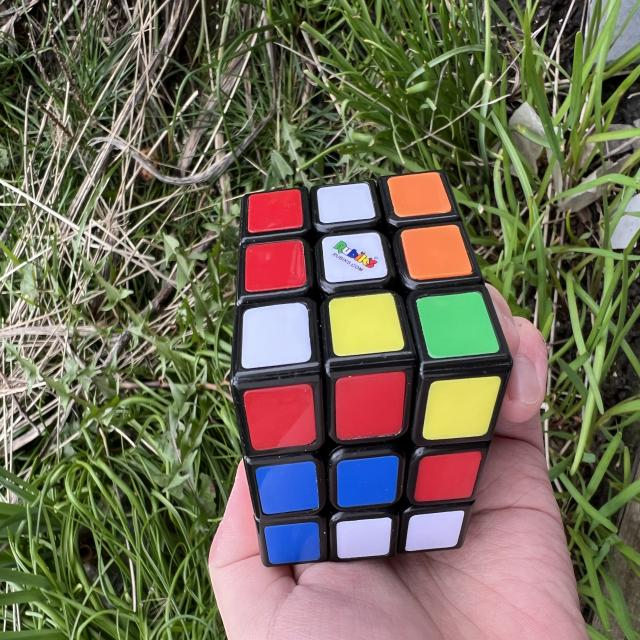blue: (254, 460, 321, 516), (334, 454, 402, 508), (264, 520, 322, 565)
center: (334, 454, 402, 508), (321, 231, 388, 284)
green: (415, 286, 500, 365)
orange: (398, 221, 473, 284), (387, 170, 451, 220)
red: (331, 370, 411, 441), (243, 383, 319, 452), (240, 238, 308, 294), (412, 451, 485, 502), (245, 189, 303, 233)
white: (236, 301, 314, 369), (321, 231, 388, 284), (402, 510, 467, 552), (315, 182, 376, 225), (335, 517, 394, 559)
yellow: (419, 376, 504, 441), (327, 291, 405, 358)
